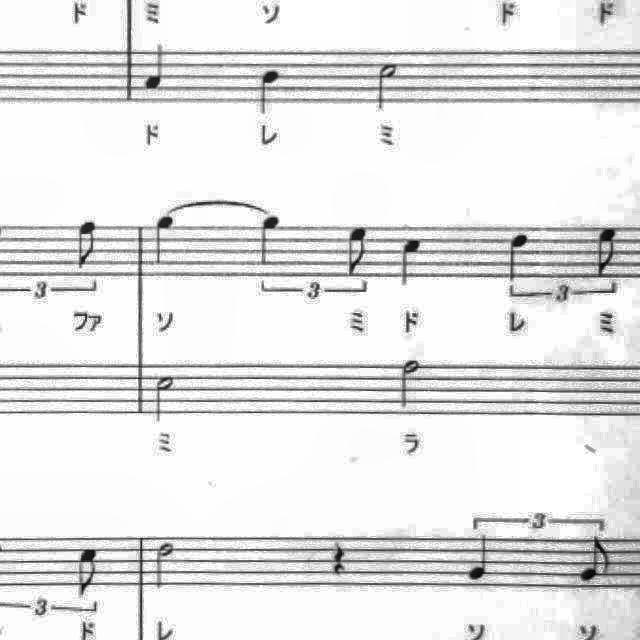Eighth-note: (574, 532, 618, 588), (68, 214, 104, 276), (70, 539, 106, 601), (339, 220, 376, 280), (589, 222, 627, 280)
Half-note: (370, 58, 406, 119), (394, 354, 430, 414), (149, 369, 183, 427), (150, 536, 182, 594)
Quarter-note: (392, 232, 432, 296), (253, 211, 290, 273), (462, 530, 502, 586), (503, 226, 539, 288), (252, 65, 290, 123), (148, 212, 184, 272), (138, 39, 174, 99)
Quarter-rest: (324, 532, 356, 580)
